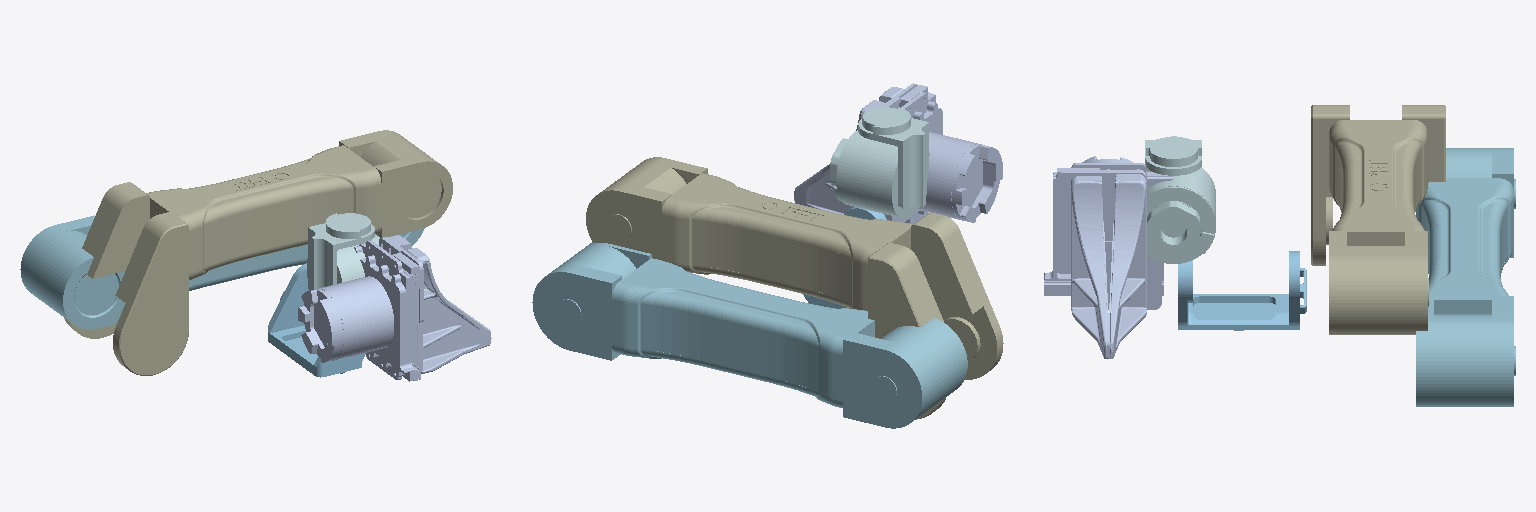
robot.urdf — yam_active_gello:
<?xml version="1.0" ?>
<!-- Generated using onshape-to-robot -->
<!-- Onshape document_id: 6239be13a6acc3b93318799e -->
<robot name="yam_active_gello">
  <!-- Link link_base -->
  <link name="link_base">
    <inertial>
      <origin xyz="-4.41778e-05 -0.0103425 0.00708706" rpy="0 0 0"/>
      <mass value="0.142185"/>
      <inertia ixx="0.000238686" ixy="-1.86437e-07" ixz="7.72394e-08" iyy="0.000121339" iyz="1.85888e-05" izz="0.000339993"/>
    </inertial>
    <!-- Part link_base_parts -->
    <visual name="link_base_visual">
      <origin xyz="-4.41778e-05 -0.0103425 0.00708706" rpy="0 -0 0"/>
      <geometry>
        <mesh filename="link_base_visual.stl"/>
      </geometry>
      <material name="link_base_parts_material">
        <color rgba="0.651007 0.820973 0.906367 1"/>
      </material>
    </visual>
    <collision name="link_base_collision">
      <origin xyz="-4.41778e-05 -0.0103425 0.00708706" rpy="0 -0 0"/>
      <geometry>
        <mesh filename="link_base_collision.stl"/>
      </geometry>
    </collision>
  </link>
  <!-- Link link_1 -->
  <link name="link_1">
    <inertial>
      <origin xyz="-0.000343826 0.0147294 -0.0309321" rpy="0 0 0"/>
      <mass value="0.0916098"/>
      <inertia ixx="2.78282e-05" ixy="8.52283e-09" ixz="-1.21458e-07" iyy="3.12667e-05" iyz="7.08991e-07" izz="1.56655e-05"/>
    </inertial>
    <!-- Part link_1_parts -->
    <visual name="link_1_visual">
      <origin xyz="-0.000343826 0.0147294 -0.0309321" rpy="3.14159 -0 0"/>
      <geometry>
        <mesh filename="link_1_visual.stl"/>
      </geometry>
      <material name="link_1_parts_material">
        <color rgba="0.630792 0.806302 0.911608 1"/>
      </material>
    </visual>
    <collision name="link_1_collision">
      <origin xyz="-0.000343826 0.0147294 -0.0309321" rpy="3.14159 -0 0"/>
      <geometry>
        <mesh filename="link_1_collision.stl"/>
      </geometry>
    </collision>
  </link>
  <!-- Link link_2 -->
  <link name="link_2">
    <inertial>
      <origin xyz="0.153785 -0.000371637 0.0187387" rpy="0 0 0"/>
      <mass value="0.120561"/>
      <inertia ixx="1.99594e-05" ixy="-5.55125e-06" ixz="1.06311e-06" iyy="0.000410457" iyz="1.17071e-08" izz="0.000405962"/>
    </inertial>
    <!-- Part link_2_parts -->
    <visual name="link_2_visual">
      <origin xyz="0.153785 -0.000371637 0.0187387" rpy="-1.5708 -1.5708 0"/>
      <geometry>
        <mesh filename="link_2_visual.stl"/>
      </geometry>
      <material name="link_2_parts_material">
        <color rgba="0.641198 0.797635 0.855238 1"/>
      </material>
    </visual>
    <collision name="link_2_collision">
      <origin xyz="0.153785 -0.000371637 0.0187387" rpy="-1.5708 -1.5708 0"/>
      <geometry>
        <mesh filename="link_2_collision.stl"/>
      </geometry>
    </collision>
  </link>
  <!-- Link link_3 -->
  <link name="link_3">
    <inertial>
      <origin xyz="0.0408097 0.102486 0.018918" rpy="0 0 0"/>
      <mass value="0.0627769"/>
      <inertia ixx="0.000319306" ixy="-2.47419e-05" ixz="2.09828e-08" iyy="1.17526e-05" iyz="3.6899e-07" izz="0.000322367"/>
    </inertial>
    <!-- Part link_3_parts -->
    <visual name="link_3_visual">
      <origin xyz="0.0408097 0.102486 0.018918" rpy="-3.14159 -1.5708 0"/>
      <geometry>
        <mesh filename="link_3_visual.stl"/>
      </geometry>
      <material name="link_3_parts_material">
        <color rgba="0.741388 0.74466 0.663062 1"/>
      </material>
    </visual>
    <collision name="link_3_collision">
      <origin xyz="0.0408097 0.102486 0.018918" rpy="-3.14159 -1.5708 0"/>
      <geometry>
        <mesh filename="link_3_collision.stl"/>
      </geometry>
    </collision>
  </link>
  <!-- Link link_4 -->
  <link name="link_4">
    <inertial>
      <origin xyz="-0.0351338 -0.0426189 0.0145025" rpy="0 0 0"/>
      <mass value="0.0361067"/>
      <inertia ixx="1.12213e-05" ixy="-6.38787e-06" ixz="5.90721e-11" iyy="1.23576e-05" iyz="-1.45706e-10" izz="1.77279e-05"/>
    </inertial>
    <!-- Part link_4_parts -->
    <visual name="link_4_visual">
      <origin xyz="-0.0351338 -0.0426189 0.0145025" rpy="1.95156e-16 -1.5708 0"/>
      <geometry>
        <mesh filename="link_4_visual.stl"/>
      </geometry>
      <material name="link_4_parts_material">
        <color rgba="0.690914 0.776344 0.801519 1"/>
      </material>
    </visual>
    <collision name="link_4_collision">
      <origin xyz="-0.0351338 -0.0426189 0.0145025" rpy="1.95156e-16 -1.5708 0"/>
      <geometry>
        <mesh filename="link_4_collision.stl"/>
      </geometry>
    </collision>
  </link>
  <!-- Link link_5 -->
  <link name="link_5">
    <inertial>
      <origin xyz="3.70677e-06 0.00021062 -0.0194513" rpy="0 0 0"/>
      <mass value="0.024426"/>
      <inertia ixx="3.97055e-06" ixy="-5.43944e-10" ixz="-5.83825e-10" iyy="3.41773e-06" iyz="-7.58144e-09" izz="2.0625e-06"/>
    </inertial>
    <!-- Part link_5_parts -->
    <visual name="link_5_visual">
      <origin xyz="3.70677e-06 0.00021062 -0.0194513" rpy="2.17696e-16 -3.25945e-16 -3.14159"/>
      <geometry>
        <mesh filename="link_5_visual.stl"/>
      </geometry>
      <material name="link_5_parts_material">
        <color rgba="0.780991 0.876201 0.897535 1"/>
      </material>
    </visual>
    <collision name="link_5_collision">
      <origin xyz="3.70677e-06 0.00021062 -0.0194513" rpy="2.17696e-16 -3.25945e-16 -3.14159"/>
      <geometry>
        <mesh filename="link_5_collision.stl"/>
      </geometry>
    </collision>
  </link>
  <!-- Link link_6 -->
  <link name="link_6">
    <inertial>
      <origin xyz="-0.000787201 -0.0123456 -0.0293345" rpy="0 0 0"/>
      <mass value="0.103266"/>
      <inertia ixx="8.41616e-05" ixy="2.17376e-06" ixz="4.06978e-07" iyy="4.23274e-05" iyz="-1.836e-05" izz="5.9443e-05"/>
    </inertial>
    <!-- Part link_6_parts -->
    <visual name="link_6_visual">
      <origin xyz="-0.000787201 -0.0123456 -0.0293345" rpy="1.5708 2.08167e-17 3.14159"/>
      <geometry>
        <mesh filename="link_6_visual.stl"/>
      </geometry>
      <material name="link_6_parts_material">
        <color rgba="0.789964 0.837504 0.940749 1"/>
      </material>
    </visual>
    <collision name="link_6_collision">
      <origin xyz="-0.000787201 -0.0123456 -0.0293345" rpy="1.5708 2.08167e-17 3.14159"/>
      <geometry>
        <mesh filename="link_6_collision.stl"/>
      </geometry>
    </collision>
  </link>
  <!-- Joint from link_5 to link_6 -->
  <joint name="joint6" type="revolute">
    <origin xyz="1.85128e-17 0.0145 -0.0275" rpy="1.5708 -1.33452e-15 2.42861e-16"/>
    <parent link="link_5"/>
    <child link="link_6"/>
    <axis xyz="0 0 1"/>
    <limit effort="10" velocity="10" lower="-3.141592653589793" upper="3.141592653589793"/>
  </joint>
  <!-- Joint from link_4 to link_5 -->
  <joint name="joint5" type="revolute">
    <origin xyz="-0.0275 -0.0555 0.0145" rpy="-3.14159 1.5708 0"/>
    <parent link="link_4"/>
    <child link="link_5"/>
    <axis xyz="0 0 1"/>
    <limit effort="10" velocity="10" lower="-3.141592653589793" upper="3.141592653589793"/>
  </joint>
  <!-- Joint from link_3 to link_4 -->
  <joint name="joint4" type="revolute">
    <origin xyz="0.045 0.18375 0.0045" rpy="2.45327e-15 -1.75162e-46 -3.14159"/>
    <parent link="link_3"/>
    <child link="link_4"/>
    <axis xyz="0 0 1"/>
    <limit effort="10" velocity="10" lower="-3.141592653589793" upper="3.141592653589793"/>
  </joint>
  <!-- Joint from link_2 to link_3 -->
  <joint name="joint3" type="revolute">
    <origin xyz="0.19825 -4.16334e-17 -3.46945e-18" rpy="-9.34353e-47 1.75162e-46 1.5708"/>
    <parent link="link_2"/>
    <child link="link_3"/>
    <axis xyz="0 0 1"/>
    <limit effort="10" velocity="10" lower="-3.141592653589793" upper="3.141592653589793"/>
  </joint>
  <!-- Joint from link_1 to link_2 -->
  <joint name="joint2" type="revolute">
    <origin xyz="-0.019 0.015 -0.0455" rpy="-1.5708 -0 -1.5708"/>
    <parent link="link_1"/>
    <child link="link_2"/>
    <axis xyz="0 0 1"/>
    <limit effort="10" velocity="10" lower="-3.141592653589793" upper="3.141592653589793"/>
  </joint>
  <!-- Joint from link_base to link_1 -->
  <joint name="joint1" type="revolute">
    <origin xyz="-0.000235922 -0.0470799 0.0335" rpy="3.14159 -0 0"/>
    <parent link="link_base"/>
    <child link="link_1"/>
    <axis xyz="0 0 1"/>
    <limit effort="10" velocity="10" lower="-3.141592653589793" upper="3.141592653589793"/>
  </joint>
</robot>

--- What the picture shows (computed from the rendered views, not written in the file) ---
Views: 3 orthographic renders of the robot side by side, from view 1: azimuth 30°, elevation 25°; view 2: azimuth 150°, elevation 25°; view 3: azimuth 270°, elevation 25°.
Robot: yam_active_gello — 7 links, 6 joints (6 revolute); root link link_base; default pose: every joint at zero.
Links seen in each view (by area): view 1: link_3, link_6, link_2, link_5, link_1; view 2: link_2, link_3, link_6, link_5, link_1; view 3: link_3, link_2, link_6, link_5, link_1.
Link boxes in pixels (bbox=[...]): link_3: bbox=[64, 130, 452, 375]; link_6: bbox=[298, 235, 491, 381]; link_2: bbox=[20, 215, 424, 329]; link_5: bbox=[307, 213, 379, 290]; link_1: bbox=[268, 263, 365, 377]; link_2: bbox=[532, 242, 967, 428]; link_3: bbox=[586, 157, 1003, 419]; link_6: bbox=[794, 83, 1002, 223]; link_5: bbox=[830, 107, 929, 218]; link_1: bbox=[803, 207, 886, 308]; link_3: bbox=[1311, 105, 1445, 334]; link_2: bbox=[1416, 148, 1515, 406]; link_6: bbox=[1044, 156, 1172, 358]; link_5: bbox=[1145, 136, 1215, 263]; link_1: bbox=[1178, 251, 1306, 330].
Size in the robot's own frame: 0.326 by 0.3152 by 0.1399 metres.
5 mesh visuals loaded from 7 distinct referenced files (5 binary STL); not drawn: 2 (reference not matched to a file when rendering).
